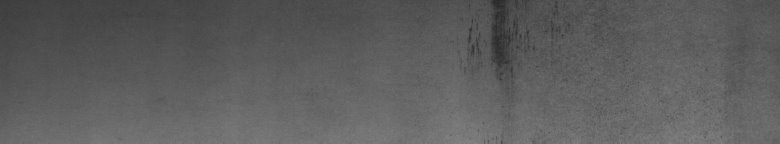ka: (460, 4, 620, 84)
